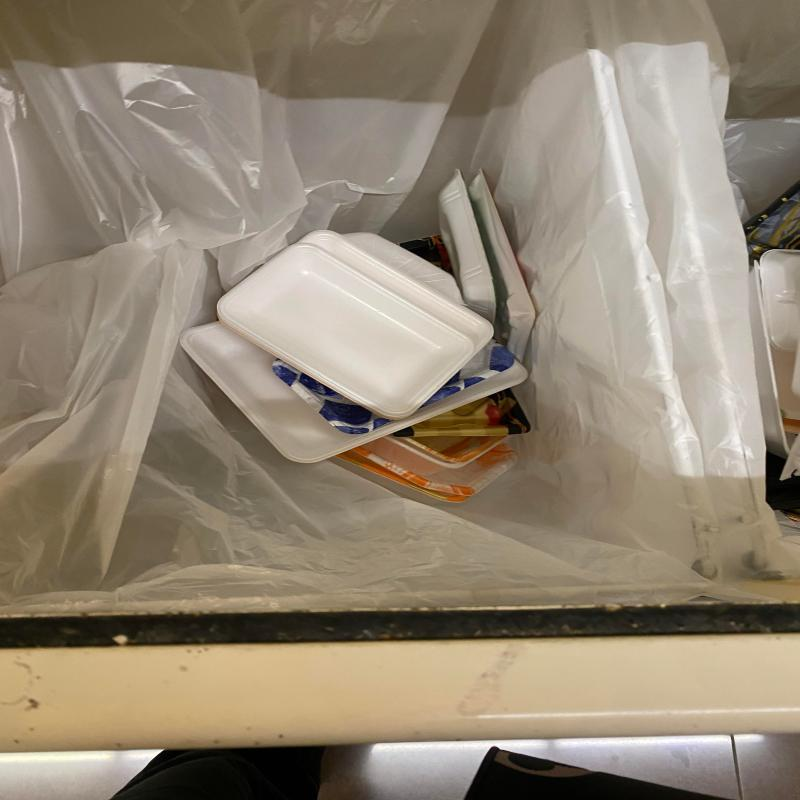styrofoam containers: (179, 321, 529, 464), (216, 244, 475, 420), (296, 230, 496, 355), (438, 170, 497, 327)
